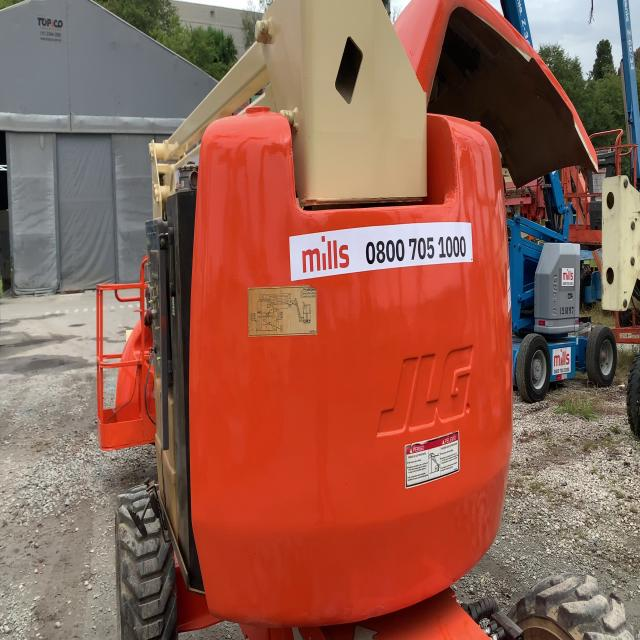Adesivo Longo: (288, 216, 474, 283)
Adesivos: (552, 345, 572, 376), (561, 266, 575, 287)
